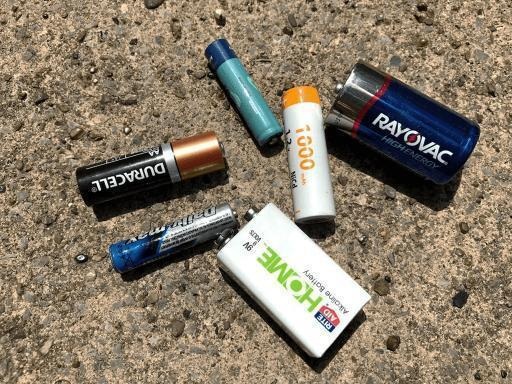AA: (74, 128, 228, 211), (281, 82, 338, 227)
AAA: (108, 200, 242, 277), (202, 36, 286, 152)
